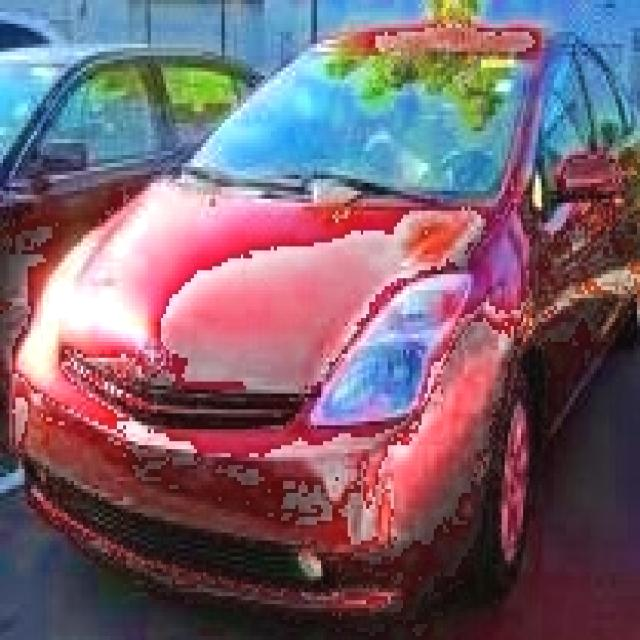maroon: (27, 35, 640, 628)
